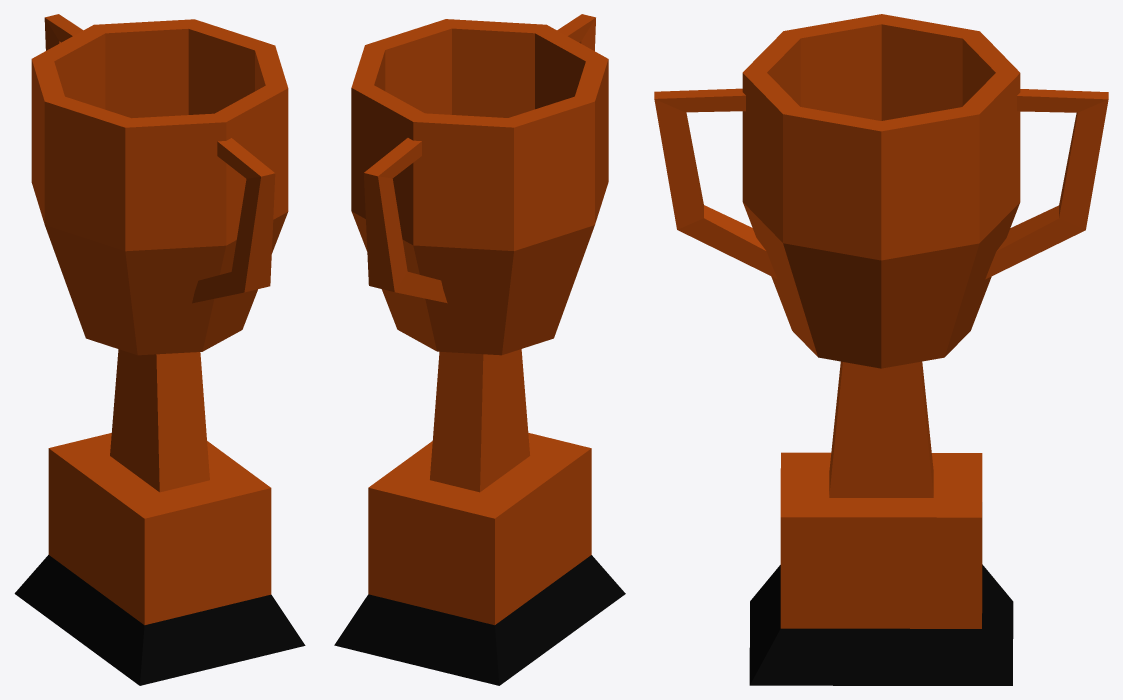
File: Trophy-Cup_01.fbx
The picture shows the model from 3 angles, left to right: view 1: azimuth 30°, elevation 25°; view 2: azimuth 150°, elevation 25°; view 3: azimuth 270°, elevation 25°; orthographic projection. The views are drawn at different scales.
Visible parts, largest first — view 1: Trophy-Cup_01; view 2: Trophy-Cup_01; view 3: Trophy-Cup_01.
Boxes of the visible parts, x1,y1,x2,y2 form: Trophy-Cup_01: (14, 14, 305, 685); Trophy-Cup_01: (334, 14, 625, 685); Trophy-Cup_01: (654, 14, 1108, 685).
Bounding box in the file's own units: 15.55 × 35.24 × 25.42.
